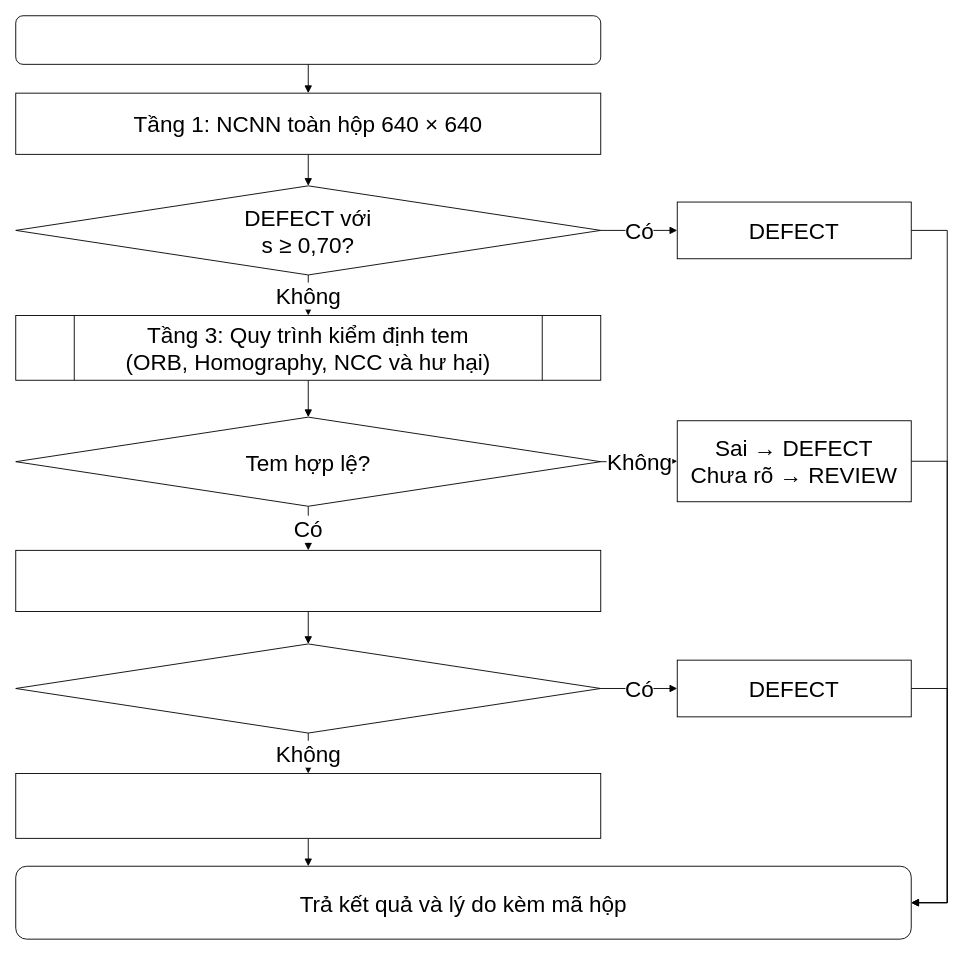
This 970x955 diagram has some shape labels left out. Here are the shapes that lost their labels. From the top down, the box of each, then its label:
(15, 15, 601, 64): Ảnh camera và mã hộp
(15, 549, 601, 612): Tầng 2: NCNN bề mặt 960 × 960
(15, 643, 601, 733): Có vùng lỗi s ≥ 0,05? (*)
(15, 773, 601, 838): PASS Tem và các kiểm tra hộp đều đạt
